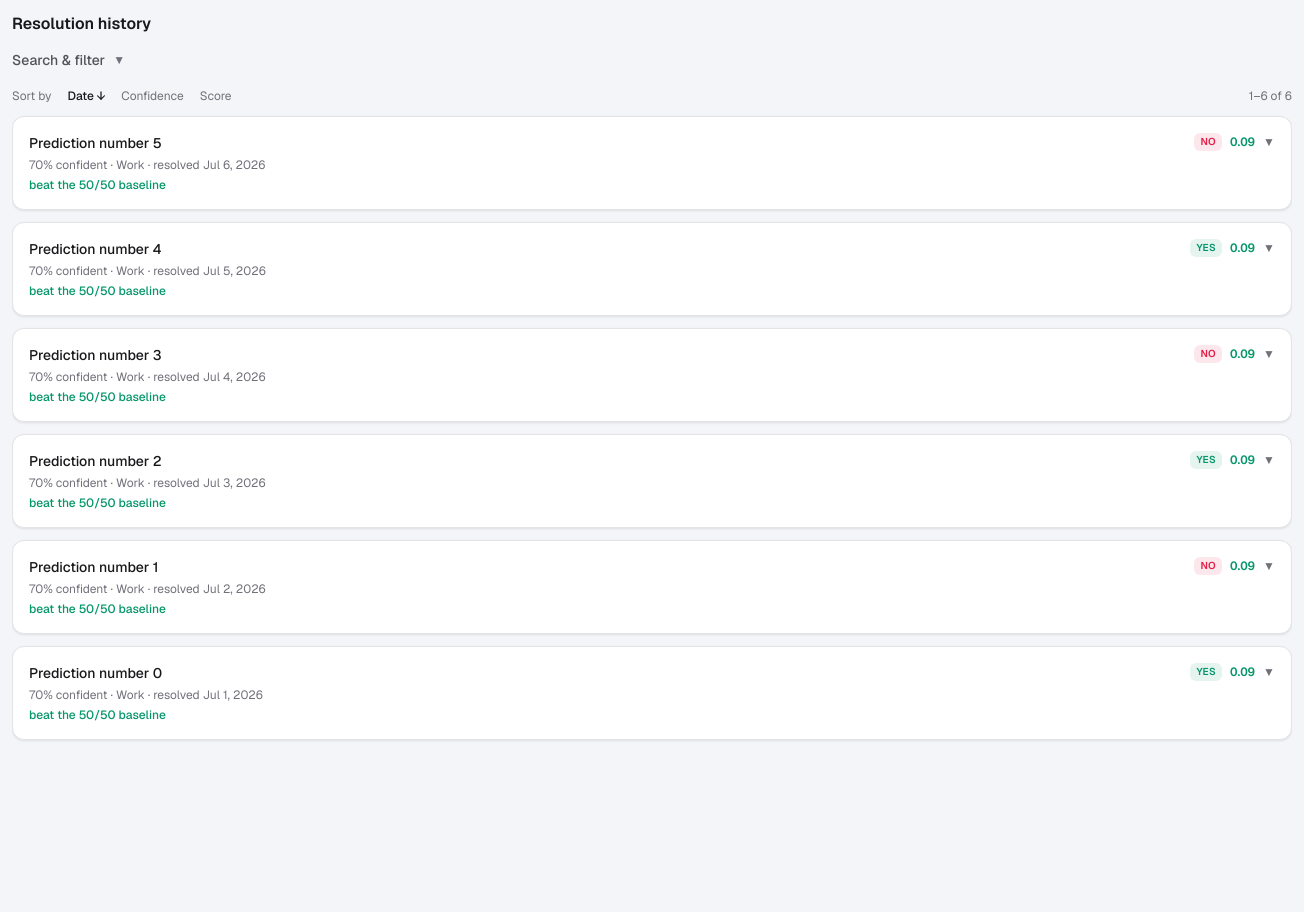
Test: ResolutionHistory — collapsible search/filter bank › collapses the filter bank behind one affordance, expanding it in place on click
Expected: the field with placeholder "search your predictions" is not shown
# Expanded in place: the search input and the filter controls appear.
Click the button "Search & filter ▼". click: (68, 60)
box: [12, 50, 125, 70]
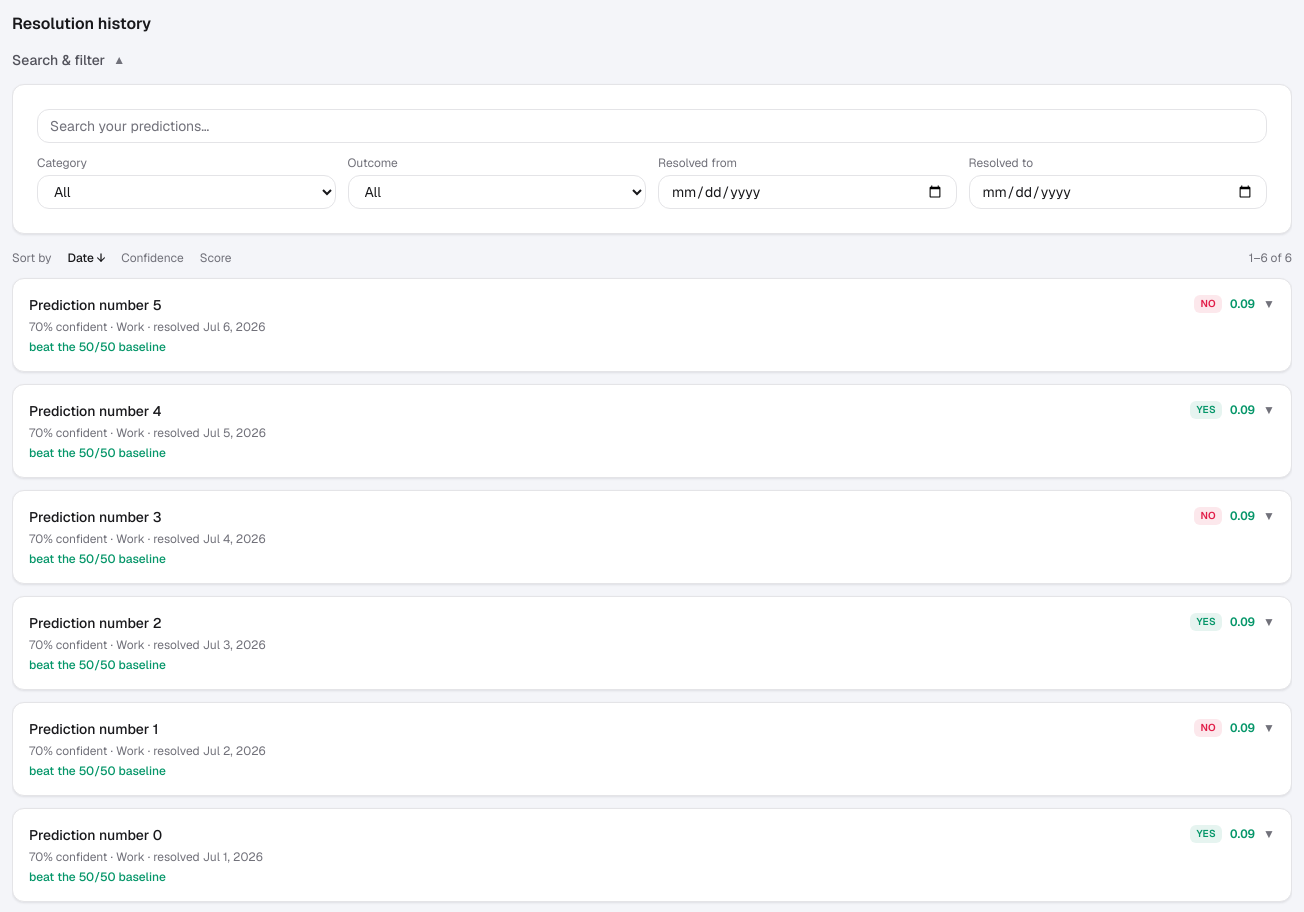
Expected: the button "Search & filter ▲" is expanded, [12, 50, 125, 70]
Expected: the field with placeholder "Search your predictions…" is shown, [37, 109, 1267, 143]
